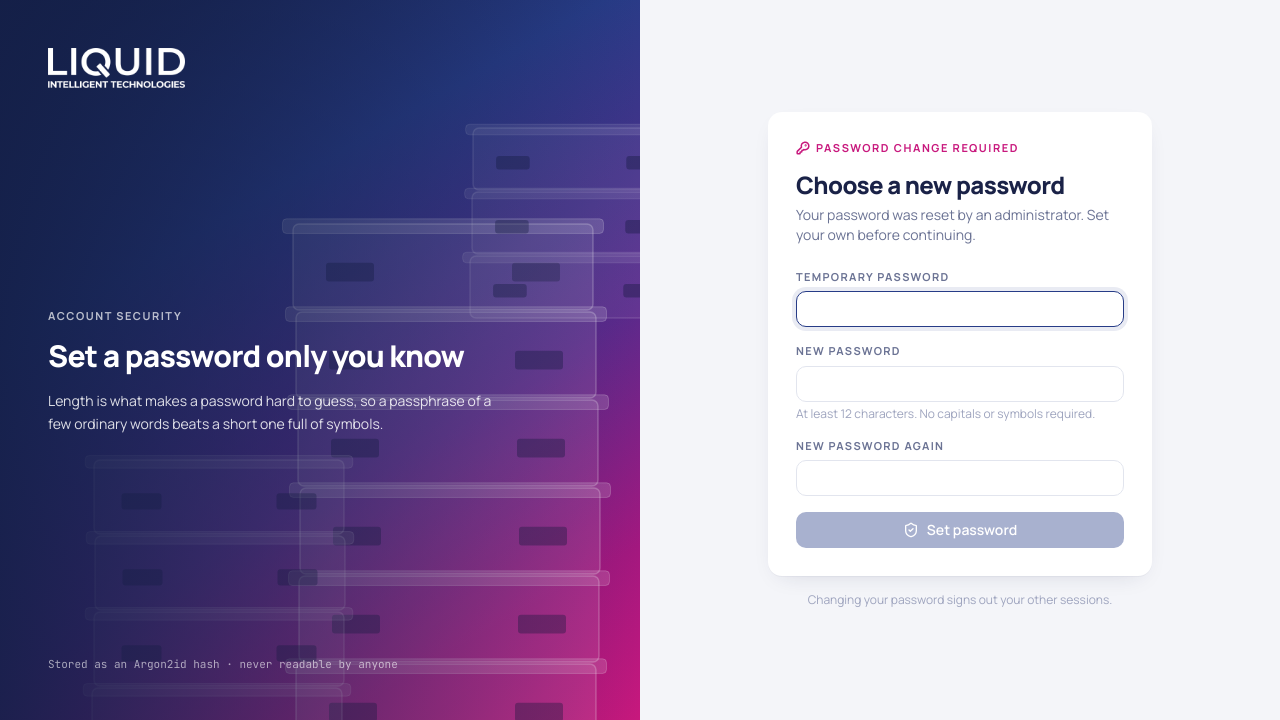
Test case: password change › explains why the API refused
Type "wrongpassword" into the password field labelled "Temporary password" at (960,309), box [796, 291, 1124, 327]
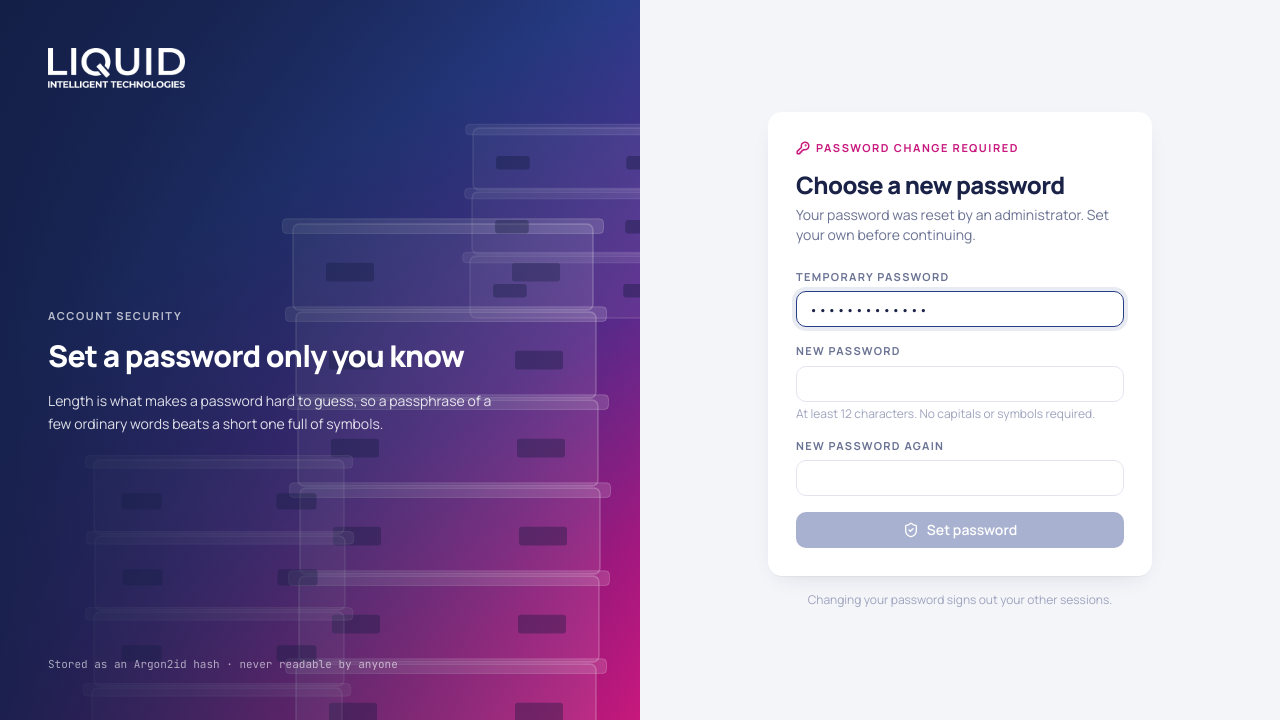
Type "a quiet loading bay" into the password field labelled "New password" at (960,384), box [796, 366, 1124, 402]
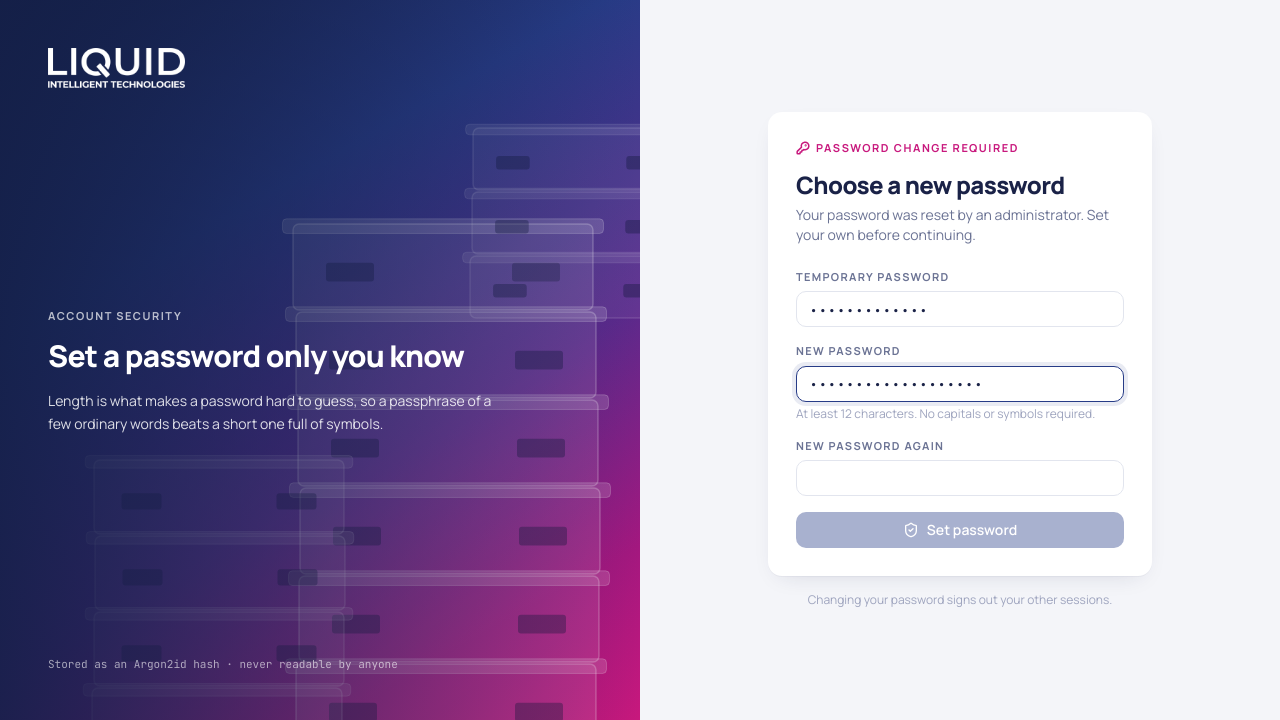
Type "a quiet loading bay" into the password field labelled "New password again" at (960,478), box [796, 460, 1124, 496]
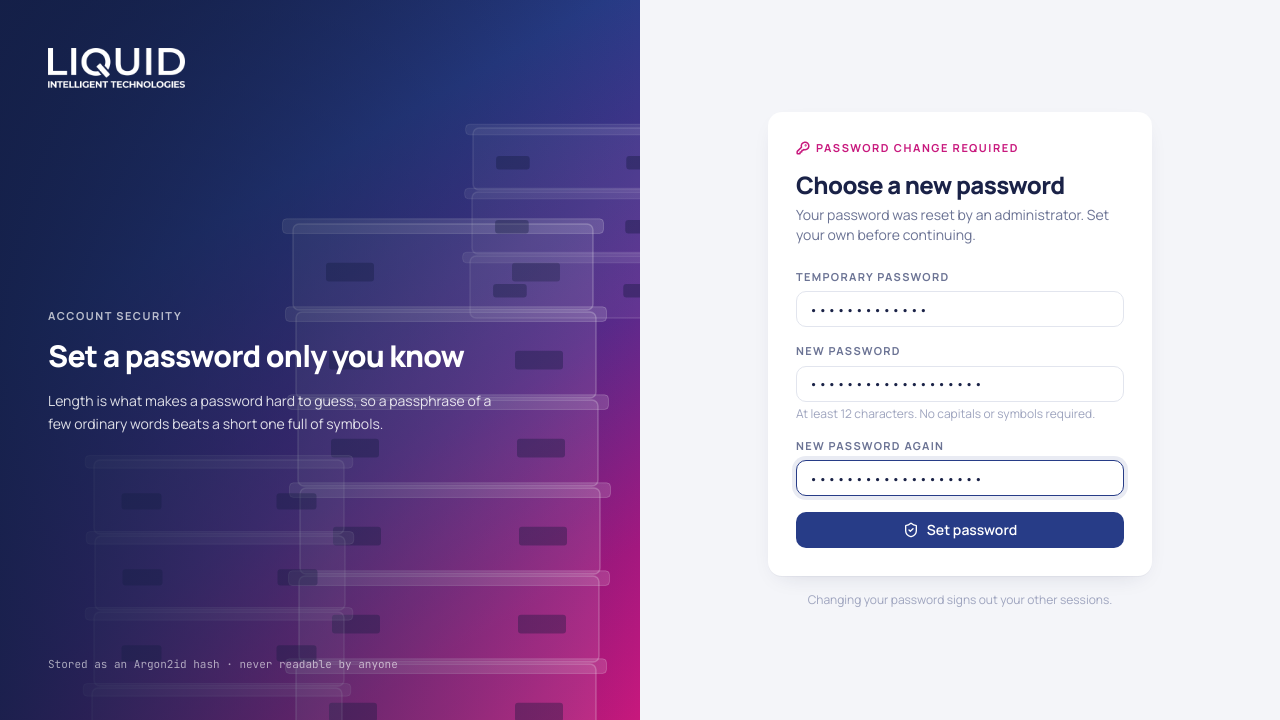
Click the button "Set password" at (960,530), box [796, 512, 1124, 548]
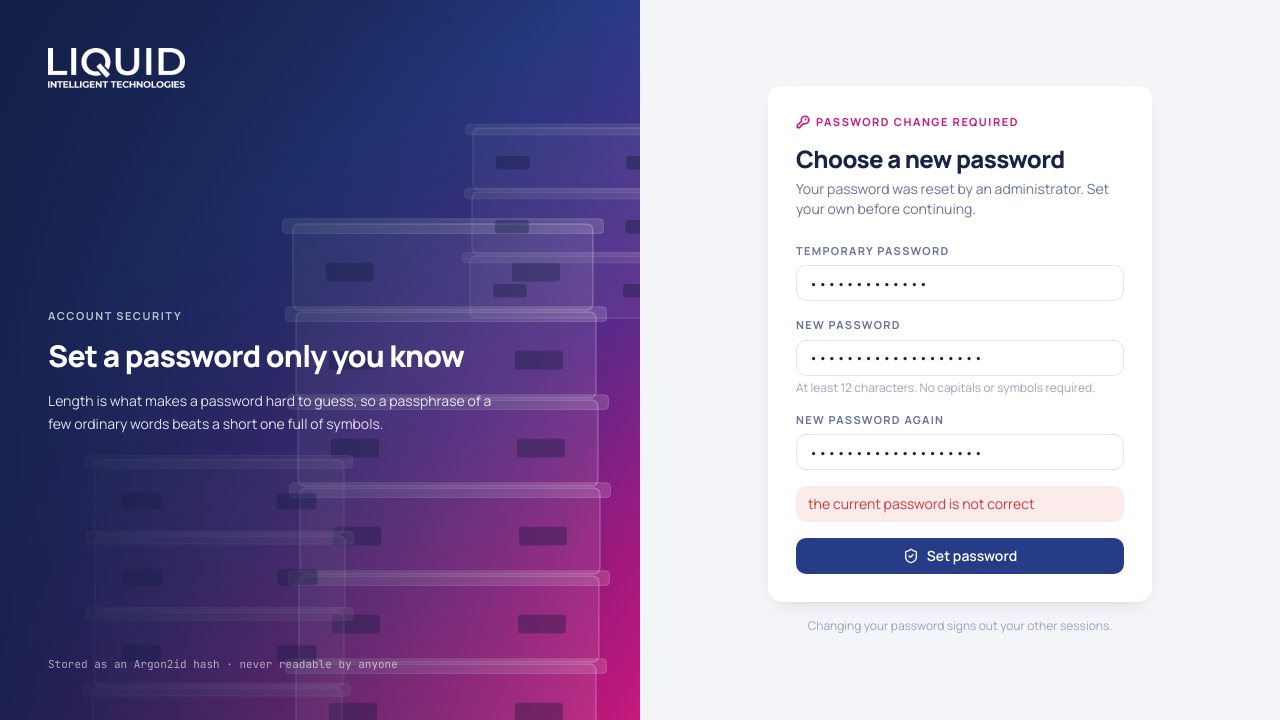
Expected: the message shows "current password is not correct", [808, 494, 1034, 513]
